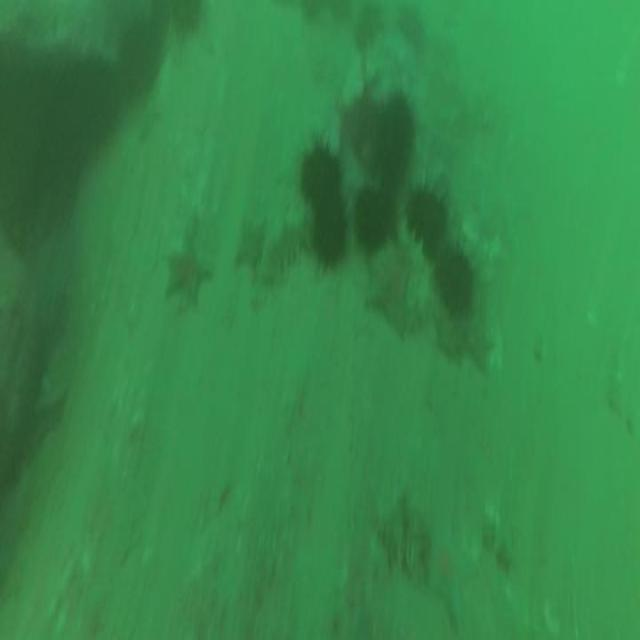echinus: (372, 95, 416, 177), (117, 22, 160, 90), (353, 186, 391, 245), (302, 144, 339, 204), (435, 253, 473, 310), (409, 185, 445, 243), (316, 199, 346, 264)
holothurian: (381, 515, 427, 574), (268, 221, 312, 280)
starfish: (428, 531, 476, 635), (367, 256, 411, 332), (164, 242, 212, 302), (235, 216, 265, 272), (468, 321, 493, 373), (436, 316, 466, 351)
